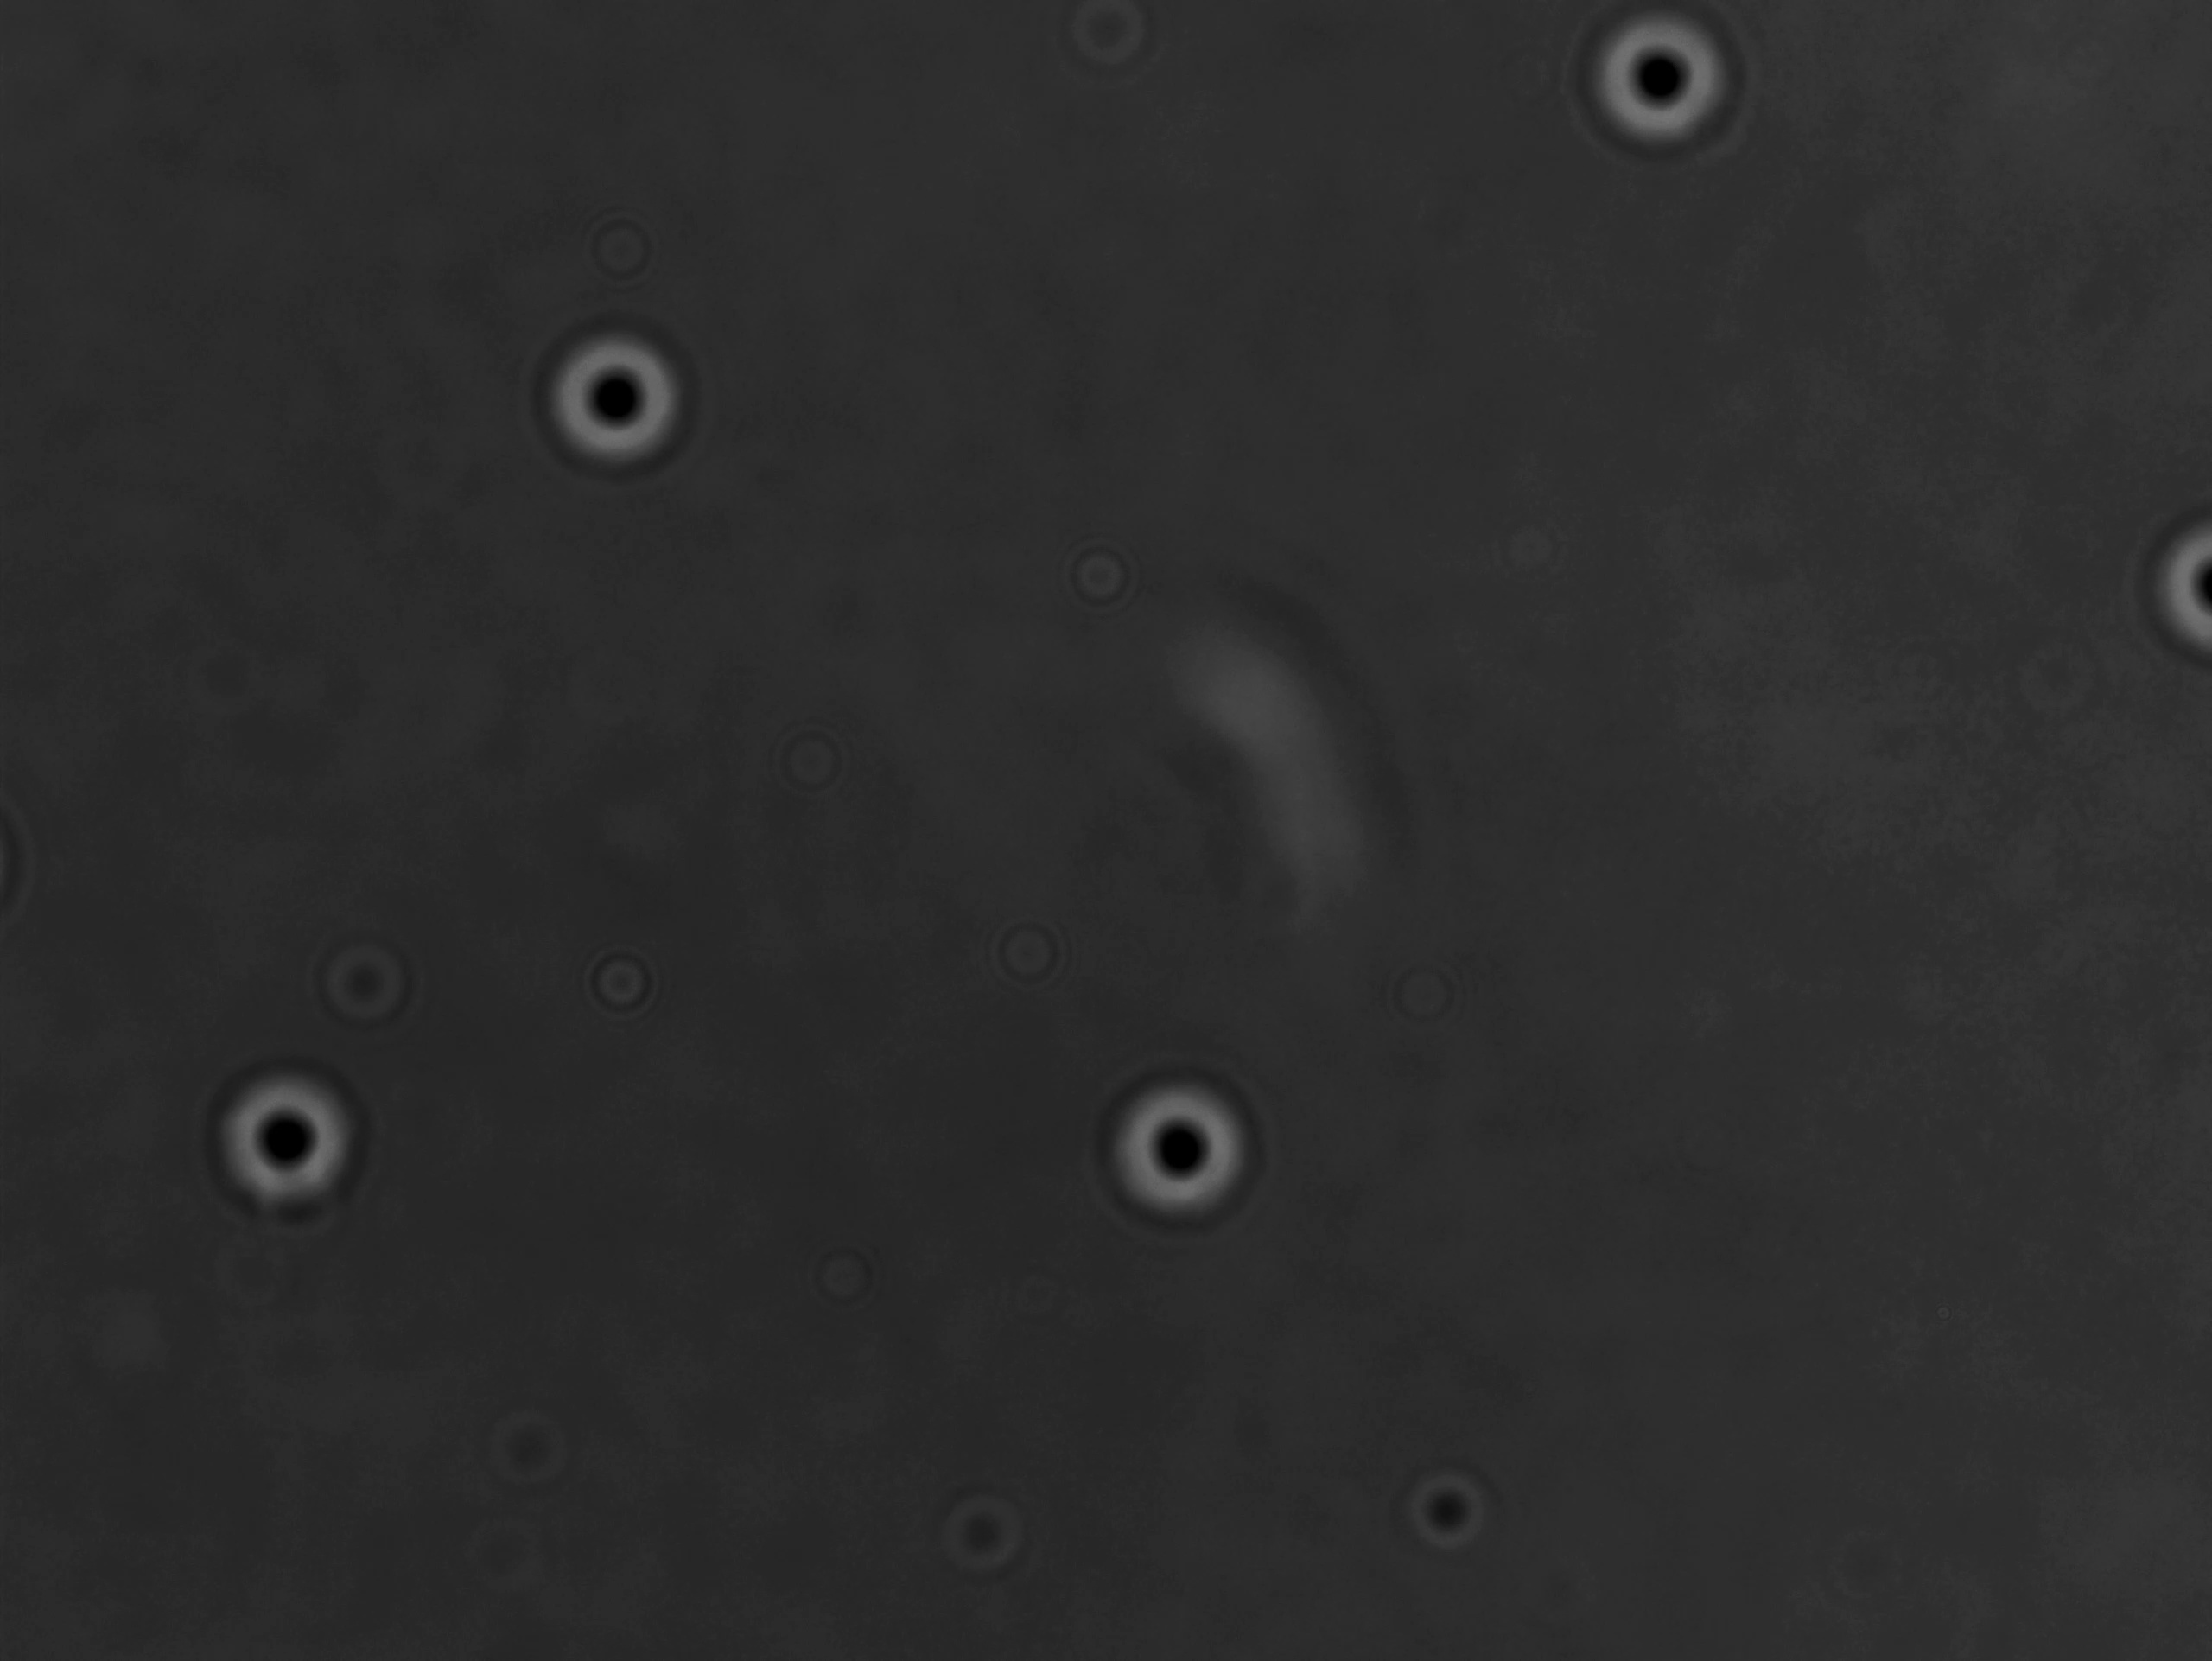depth:-40: (1094, 1068, 1265, 1230), (529, 312, 696, 476), (208, 1064, 382, 1218), (1568, 10, 1743, 164)
